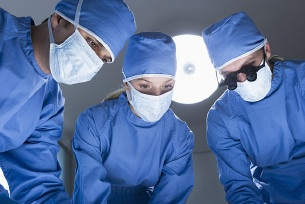Mask: (45, 19, 111, 86)
